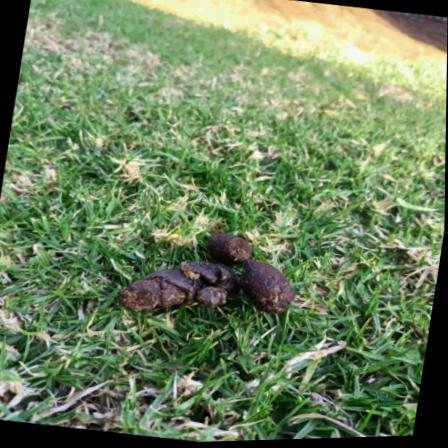dog-poop: (119, 214, 304, 335)
